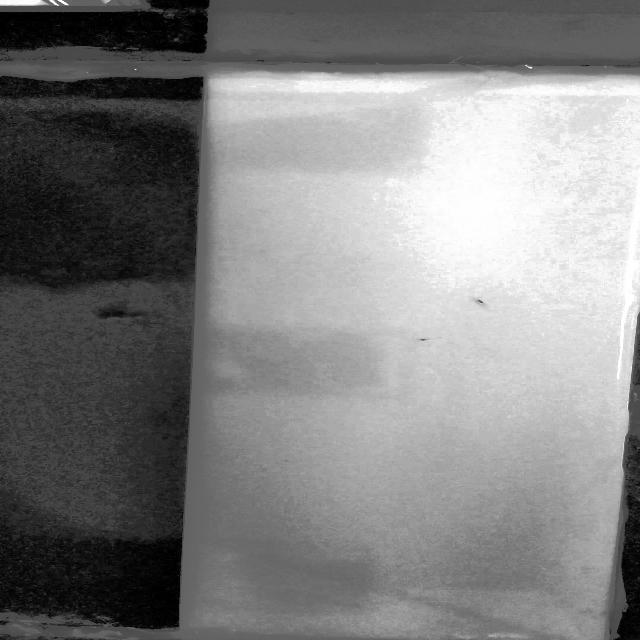shrimp: (456, 291, 495, 311), (403, 330, 443, 349)
